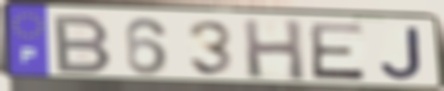3: (186, 20, 235, 76)
6: (123, 16, 169, 77)
B: (53, 13, 115, 75)
E: (307, 21, 368, 82)
H: (240, 17, 308, 83)
J: (378, 25, 426, 82)
